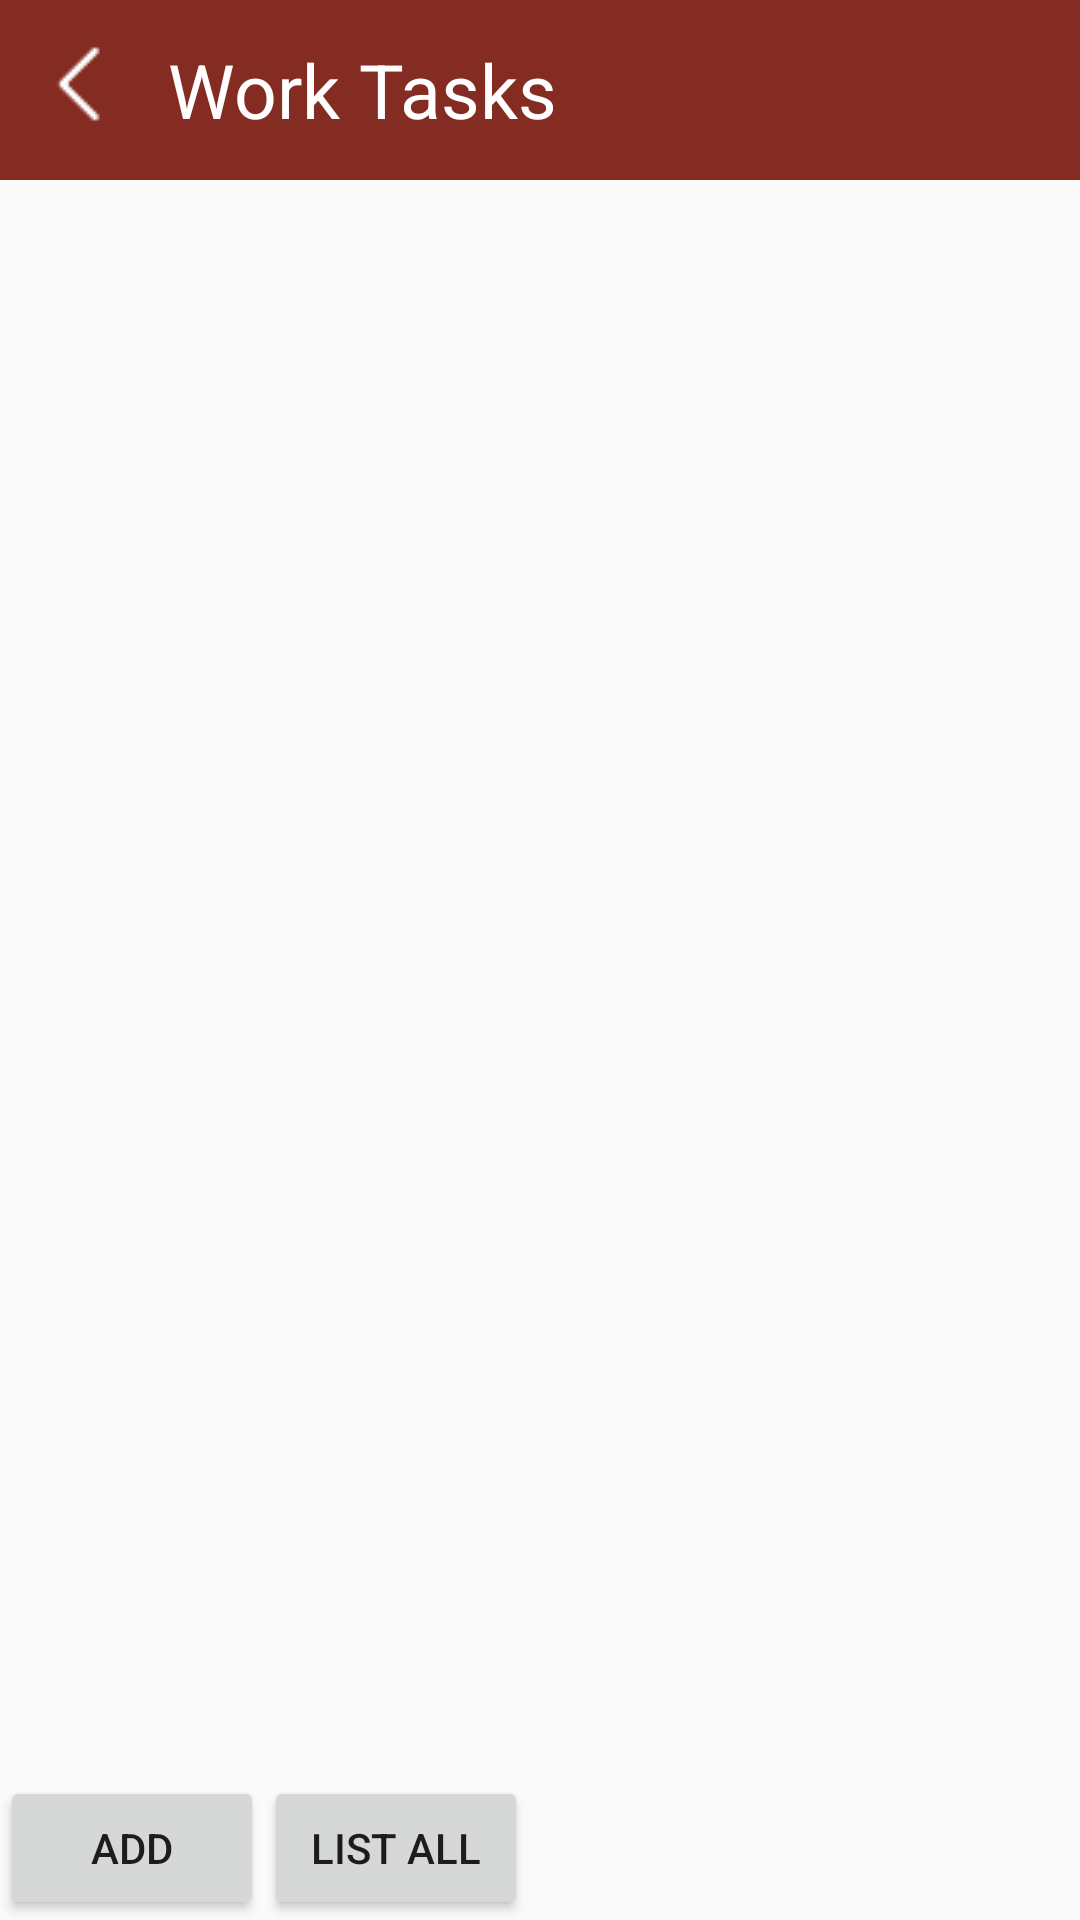

Icon bounding boxes for this 1080px×1920px phone screenshot, format (x1, y1, x2, y2):
backbutton: (58, 47, 100, 121)
